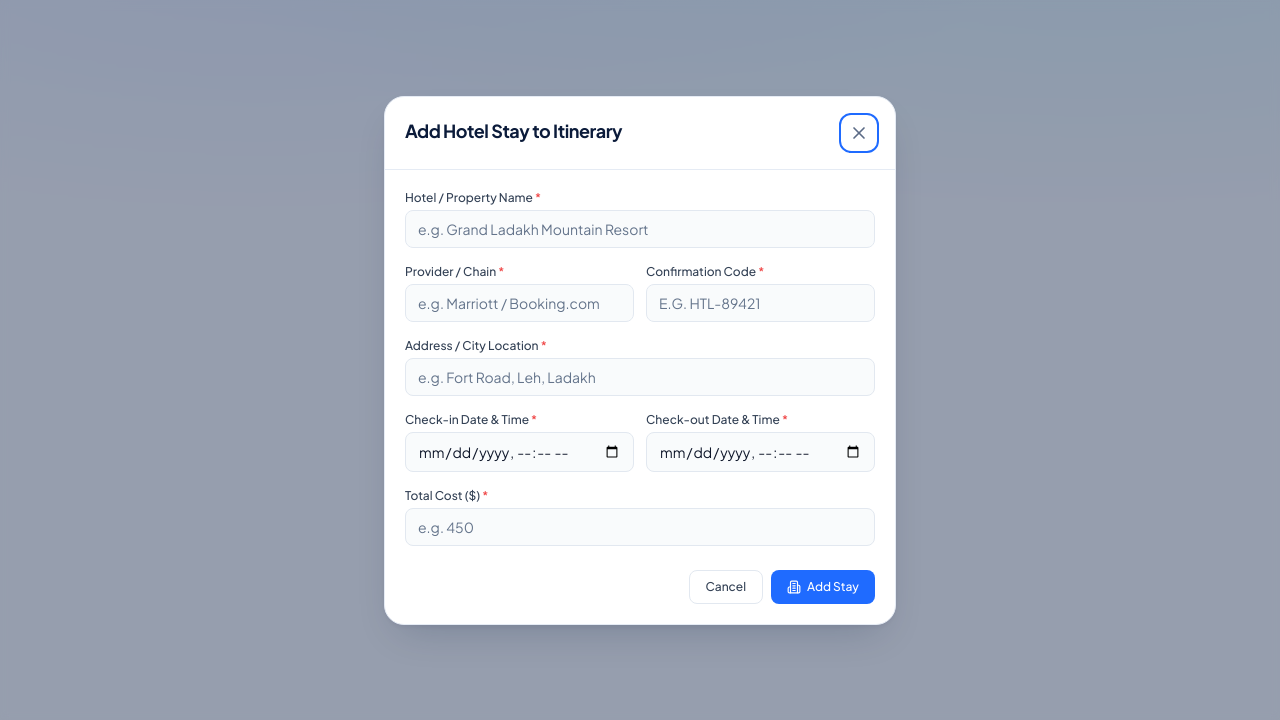
Test case: AddAccommodationModal › displays API errors when submission fails
Type "Grand Mountain Resort" into the field labelled "Hotel / Property Name *".
click(640, 228); type("Grand Mountain Resort")  # box [405,210,875,248]
Type "Marriott" into the field labelled "Provider / Chain *".
click(520, 302); type("Marriott")  # box [405,284,634,322]
Type "HTL-9988" into the field labelled "Confirmation Code *".
click(760, 302); type("HTL-9988")  # box [646,284,875,322]
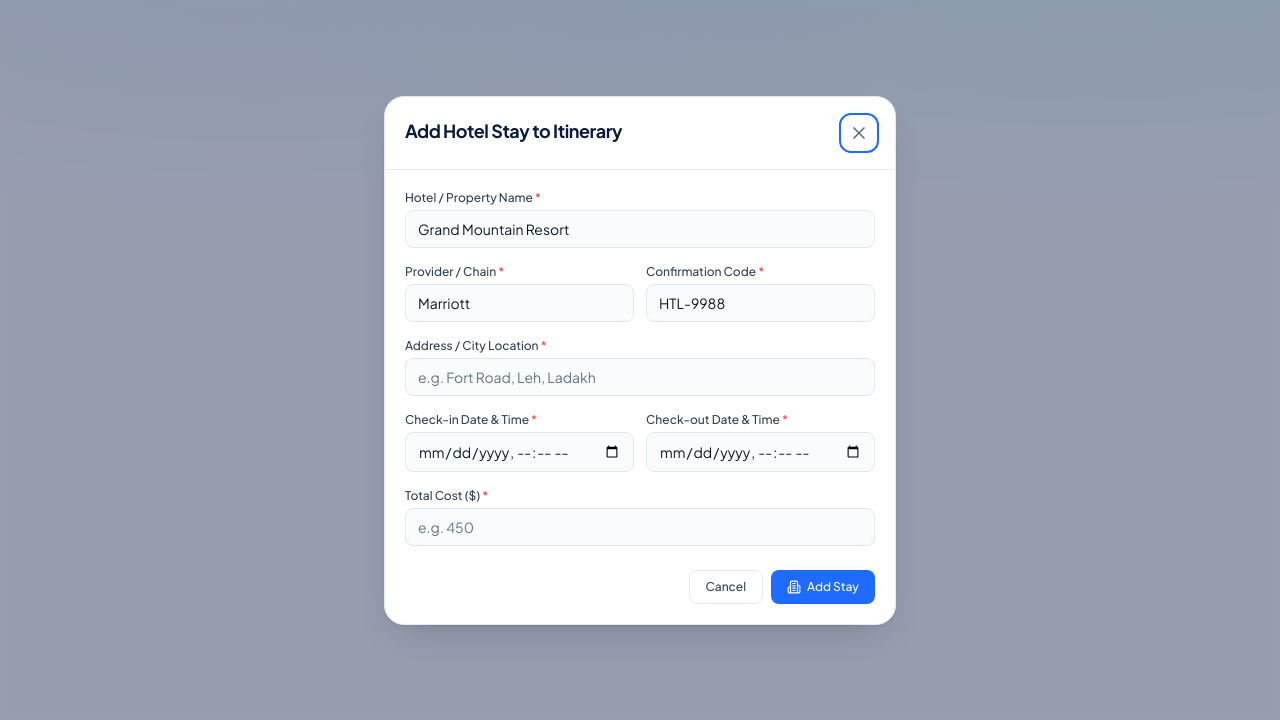
Type "Fort Road, Leh" into the field labelled "Address / City Location *".
click(640, 376); type("Fort Road, Leh")  # box [405,358,875,396]
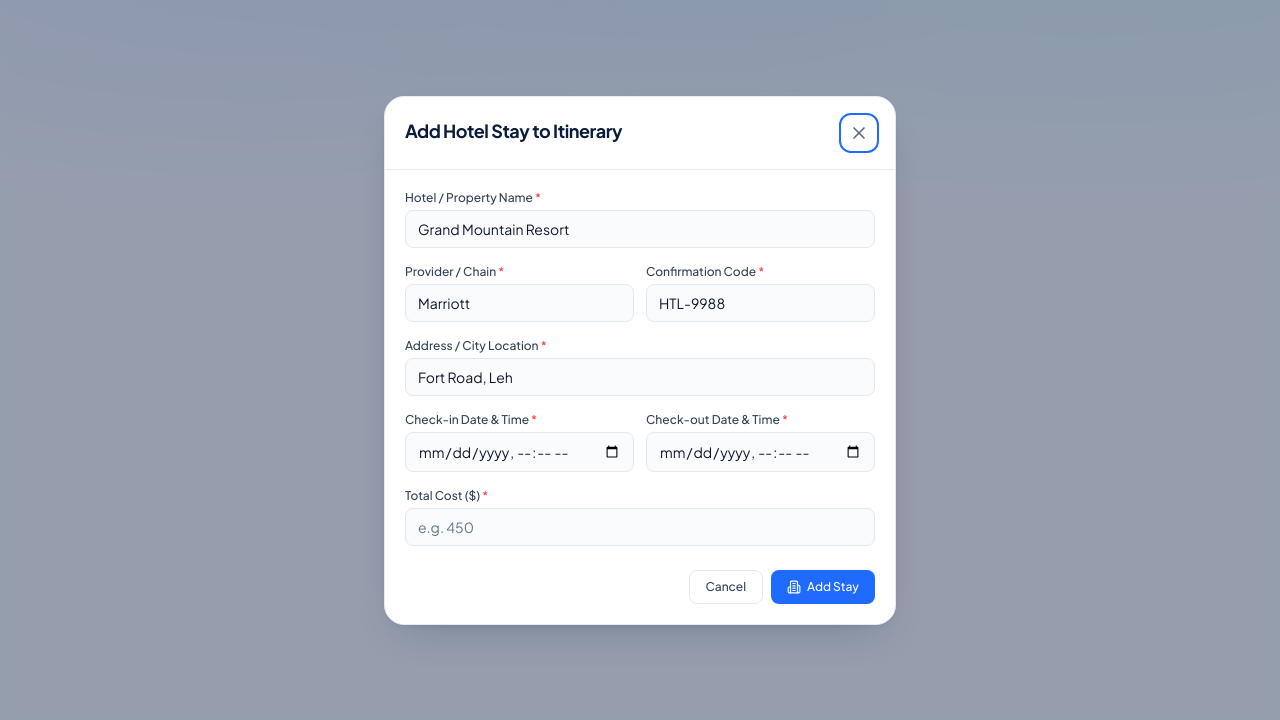
Type "2026-05-01T14:00" into the field labelled "Check-in Date & Time *".
click(520, 452); type("2026-05-01T14:00")  # box [405,432,634,472]
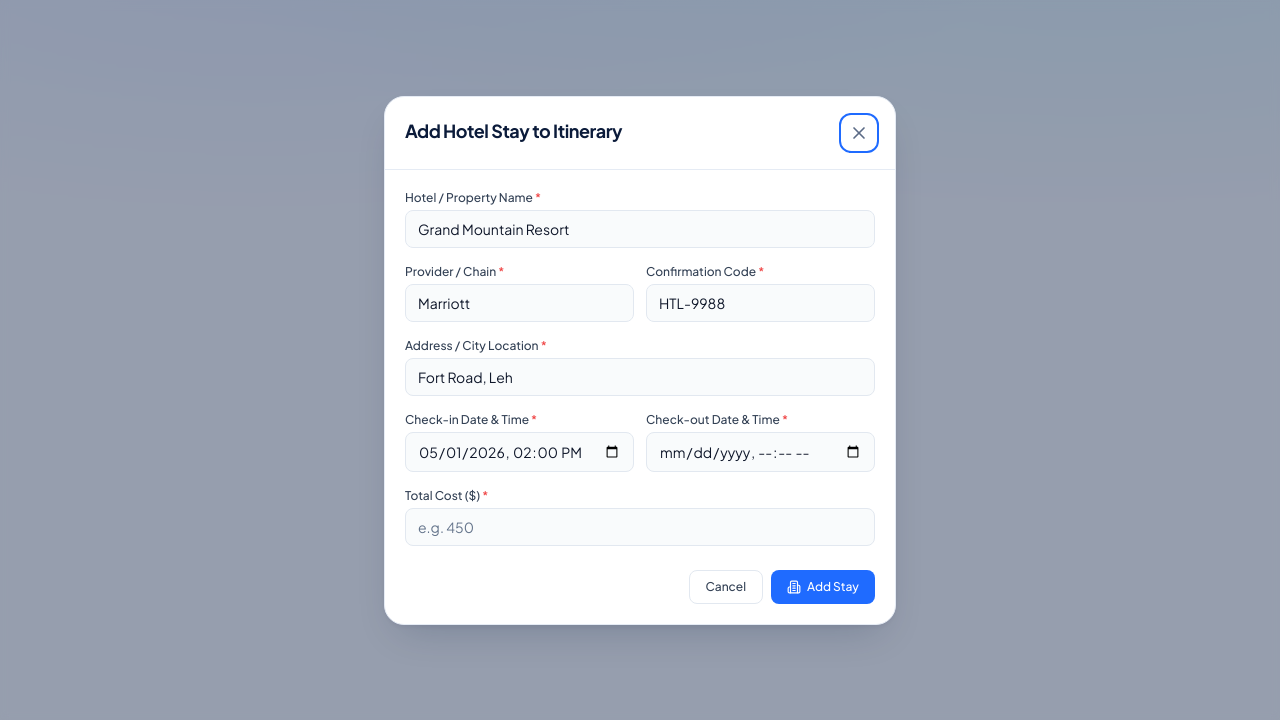
Type "2026-05-04T11:00" into the field labelled "Check-out Date & Time *".
click(760, 452); type("2026-05-04T11:00")  # box [646,432,875,472]
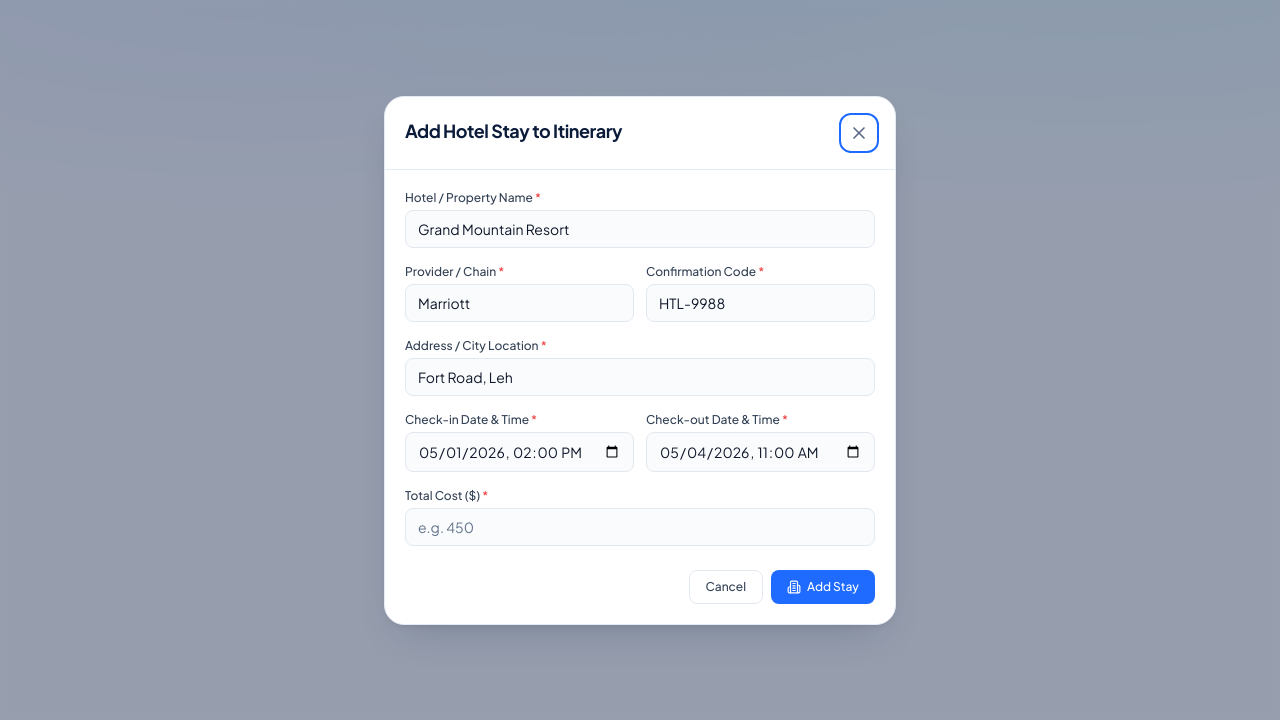
Type "650" into the number field labelled "Total Cost ($) *".
click(640, 526); type("650")  # box [405,508,875,546]
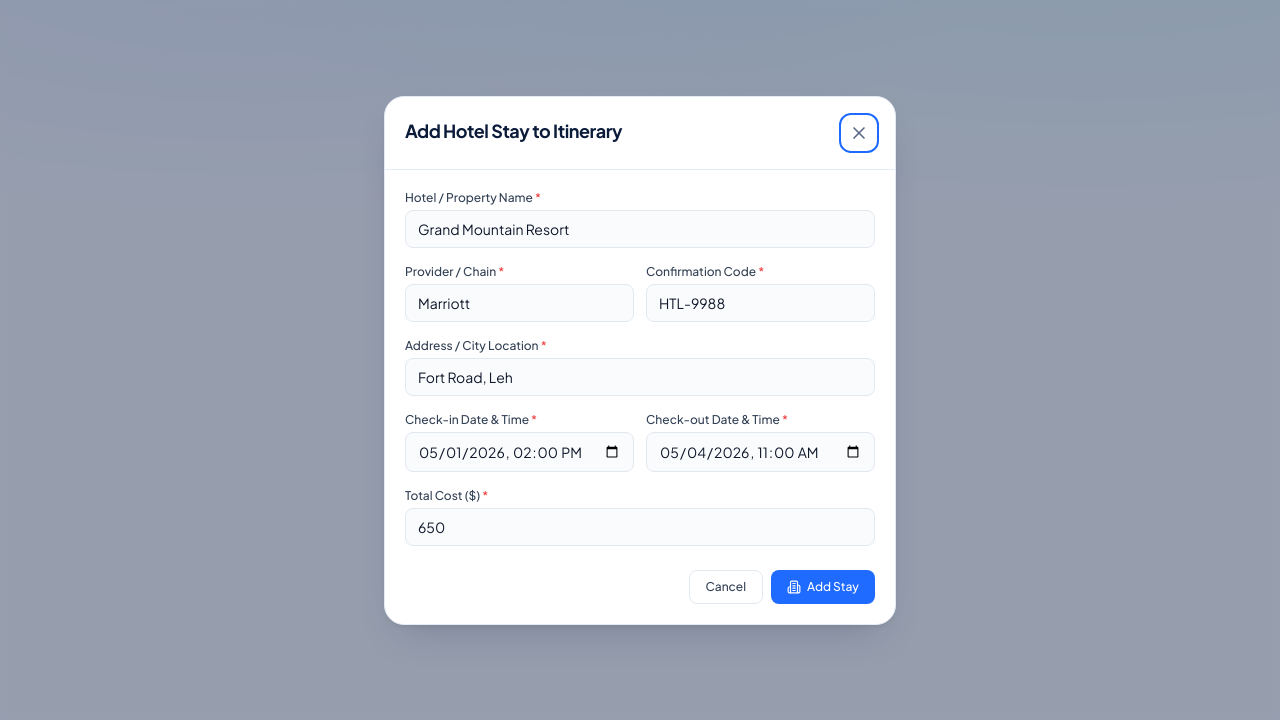
Click the button "Add Stay".
click(823, 586)  # box [771,570,875,604]
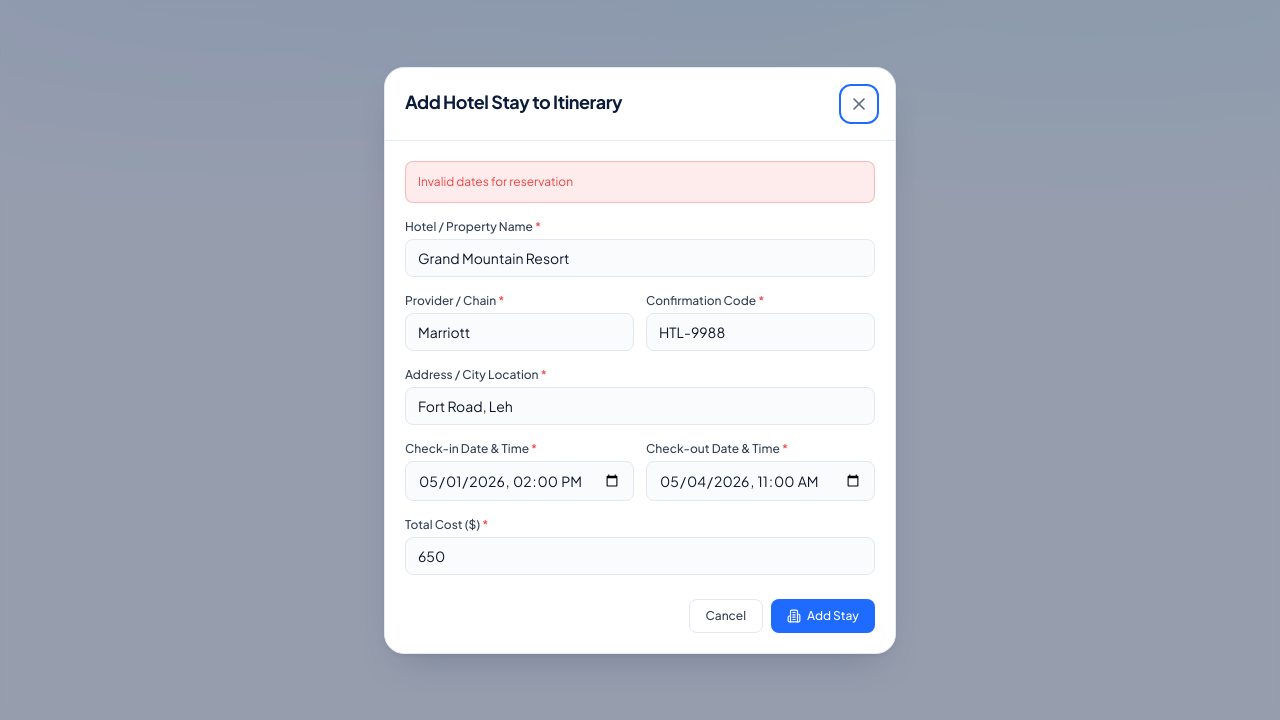
Result: the message reads "Invalid dates for reservation" at [418,174,573,188]
